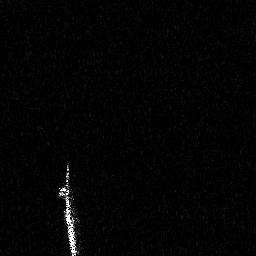ship: (56, 159, 82, 256)
